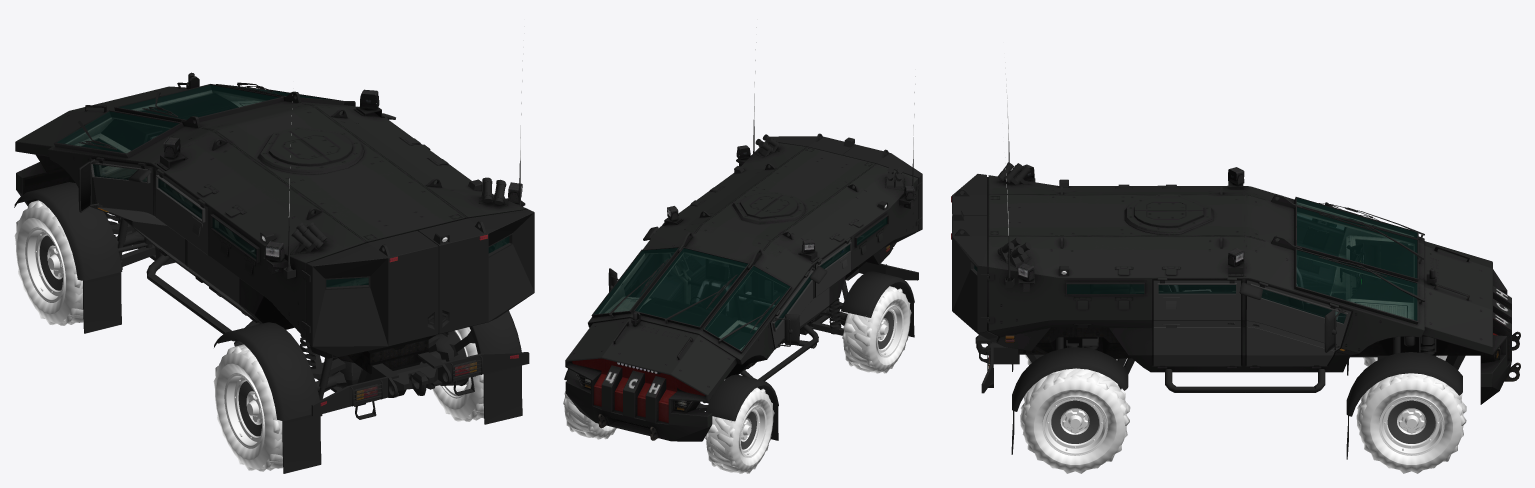
File: punisher_mrap_v1.glb
3 views of the same model, side by side, from view 1: azimuth 30°, elevation 25°; view 2: azimuth 150°, elevation 25°; view 3: azimuth 270°, elevation 25° (orthographic). The views are drawn at different scales.
Visible parts, largest first — view 1: Object_29.001, Object_48.001, Object_55.001, Object_71.001, Object_25.001, Object_69.001, Object_112.001, Object_129.001, Object_109.001, Object_21.001, Object_27.001, Object_75.001 (+7 smaller); view 2: Object_29.001, Object_129.001, Object_25.001, Object_112.001, Object_109.001, Object_27.001, Object_71.001, Object_69.001, Object_19.001, Object_13.001, Object_31.001, Object_48.001 (+7 smaller); view 3: Object_29.001, Object_129.001, Object_118.001, Object_25.001, Object_115.001, Object_52.001, Object_15.001, Object_27.001, Object_55.001, Object_75.001, Object_73.001, Object_42.001 (+9 smaller).
Part boxes in pixels (x1,y1,x2,y2): Object_29.001: (15, 72, 527, 374); Object_48.001: (302, 231, 438, 356); Object_55.001: (418, 209, 534, 334); Object_71.001: (214, 322, 321, 473); Object_25.001: (57, 85, 508, 286); Object_69.001: (14, 182, 122, 333); Object_112.001: (213, 344, 283, 471); Object_129.001: (57, 85, 331, 153); Object_109.001: (14, 200, 83, 325); Object_21.001: (311, 352, 529, 419); Object_27.001: (78, 82, 520, 406); Object_75.001: (428, 310, 522, 424); Object_29.001: (565, 141, 918, 441); Object_129.001: (593, 248, 789, 350); Object_25.001: (594, 217, 886, 350); Object_112.001: (842, 286, 911, 373); Object_109.001: (705, 387, 774, 473); Object_27.001: (609, 120, 919, 402); Object_71.001: (841, 271, 914, 337); Object_69.001: (706, 374, 778, 440); Object_19.001: (781, 239, 851, 342); Object_13.001: (624, 253, 683, 302); Object_31.001: (668, 252, 839, 321); Object_48.001: (842, 145, 922, 246); Object_29.001: (987, 164, 1520, 404); Object_129.001: (1296, 198, 1417, 320); Object_118.001: (1020, 368, 1130, 473); Object_25.001: (1067, 198, 1416, 321); Object_115.001: (1356, 373, 1466, 473); Object_52.001: (1153, 280, 1240, 366); Object_15.001: (1246, 280, 1350, 366); Object_27.001: (987, 141, 1465, 392); Object_55.001: (951, 210, 998, 341); Object_75.001: (1011, 347, 1128, 454); Object_73.001: (1346, 352, 1462, 459); Object_42.001: (1262, 216, 1346, 304).
Bounding box in the file's own units: 2.95 × 4.37 × 6.2.
Materials: 14 (10 with a texture image).
